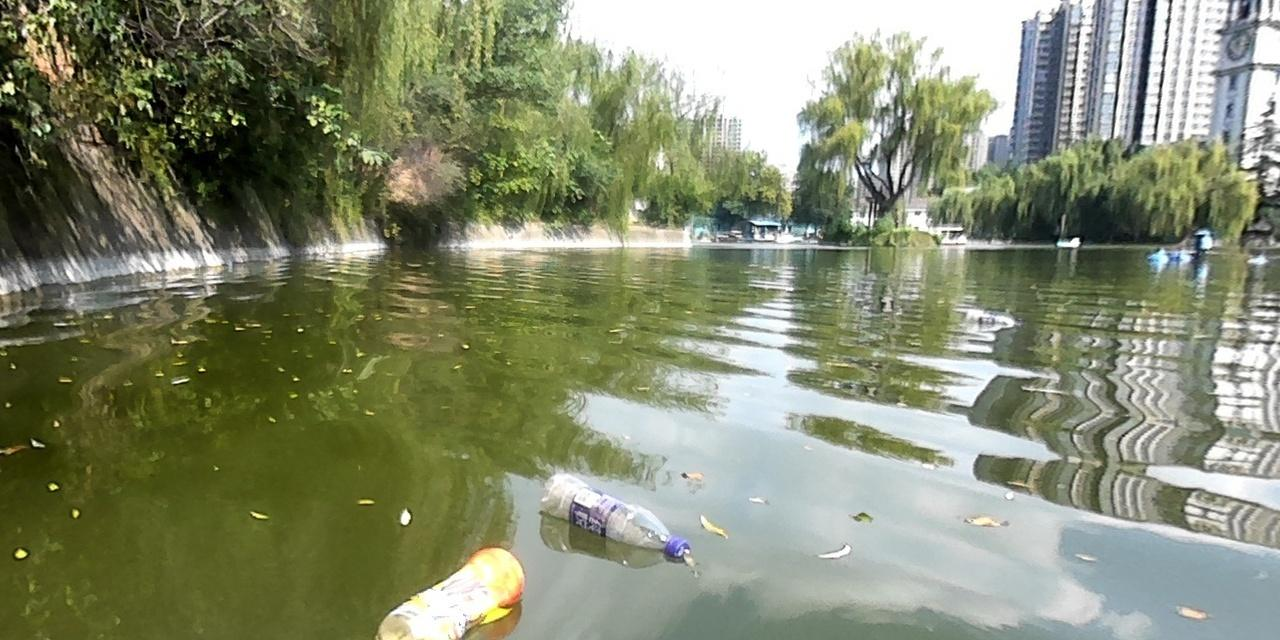bottle: (377, 546, 524, 639), (539, 472, 683, 554), (966, 310, 1020, 330)
